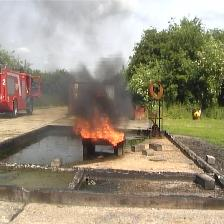fire: (74, 109, 124, 147)
